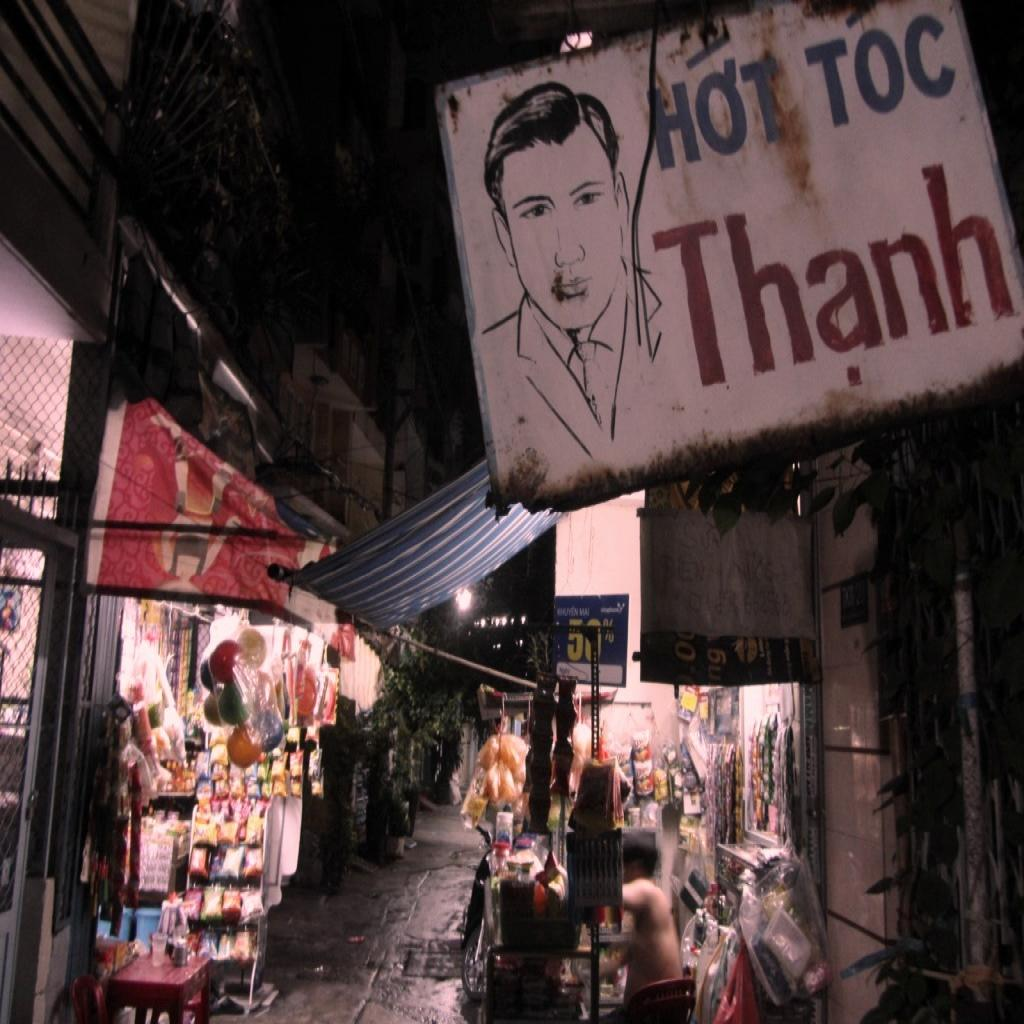text: (649, 149, 1021, 432), (636, 19, 796, 176), (793, 1, 962, 136), (566, 617, 617, 668), (676, 516, 725, 553), (705, 644, 730, 684), (675, 637, 698, 679), (556, 604, 580, 619), (579, 607, 592, 620)
